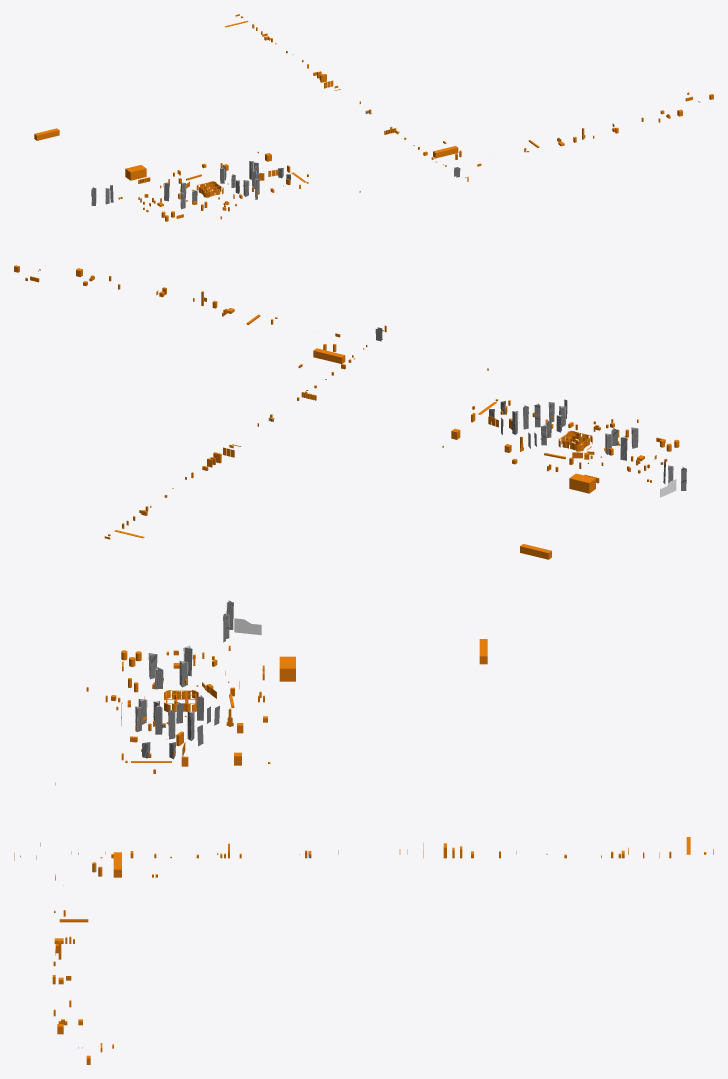
Rendered from Plotegg_Ausstellung_test.glb.
The picture shows the model from 3 angles, top to bottom: view 1: azimuth 30°, elevation 25°; view 2: azimuth 150°, elevation 25°; view 3: azimuth 270°, elevation 25°; orthographic projection. The views are drawn at different scales.
Parts seen in each view (by area): view 1: Layer 16, Layer 20; view 2: Layer 16, Layer 20, Layer 23; view 3: Layer 16, Layer 20, Layer 23.
Boxes of the visible parts, left/top/right/bottom form: Layer 16: left=34, top=14, right=713, bottom=221; Layer 20: left=91, top=111, right=460, bottom=209; Layer 16: left=14, top=265, right=679, bottom=559; Layer 20: left=268, top=327, right=686, bottom=490; Layer 23: left=513, top=402, right=686, bottom=497; Layer 16: left=14, top=639, right=713, bottom=1064; Layer 20: left=36, top=602, right=311, bottom=859; Layer 23: left=135, top=600, right=261, bottom=740.
Bounding box in the file's own units: 0.0254 × 0.00075 × 0.0172.
